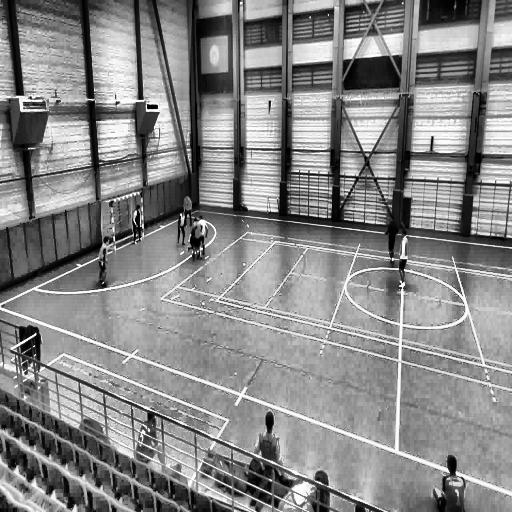player: (135, 405, 171, 472), (252, 410, 286, 480), (432, 452, 465, 512), (398, 228, 409, 288), (385, 214, 397, 264), (188, 218, 200, 266), (99, 237, 110, 286), (198, 214, 209, 260), (182, 189, 194, 229), (132, 204, 142, 245), (176, 208, 186, 248)
